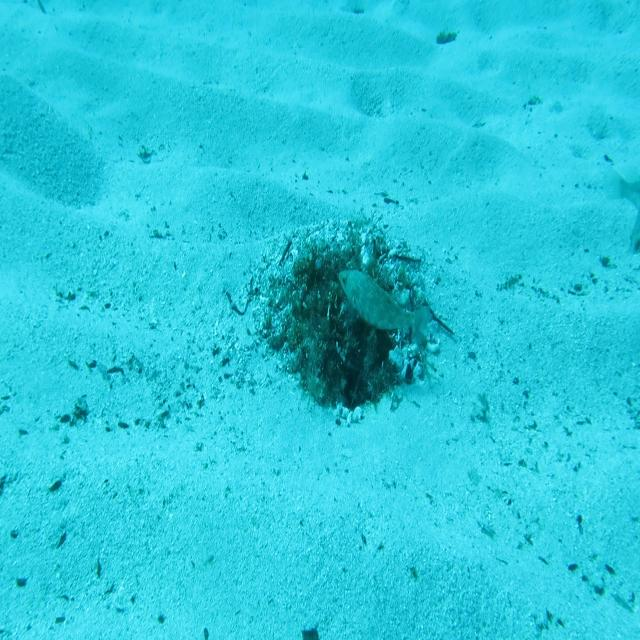BN: (338, 261, 433, 356)
core_nest: (315, 258, 366, 299)
female: (600, 162, 640, 259)
nest: (238, 200, 450, 441)
vegetation: (434, 29, 459, 46), (300, 625, 322, 640)
